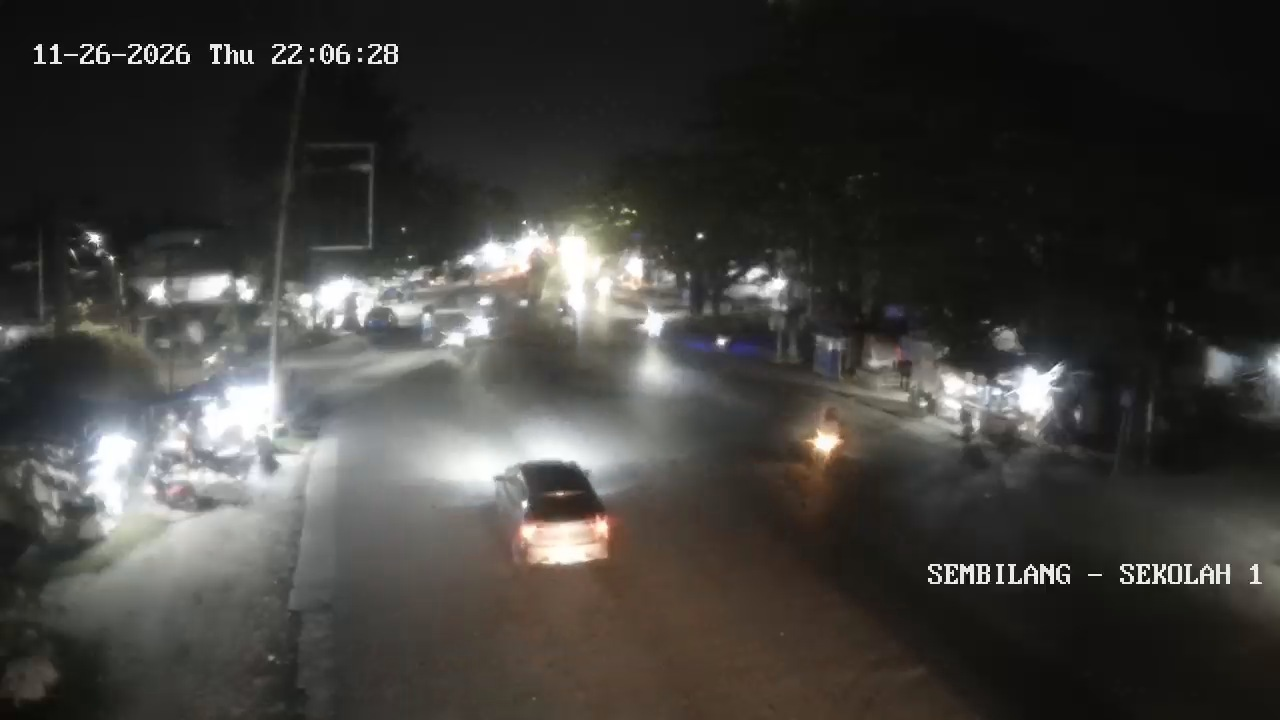Gerobak: (147, 371, 275, 472), (928, 356, 1056, 443)
